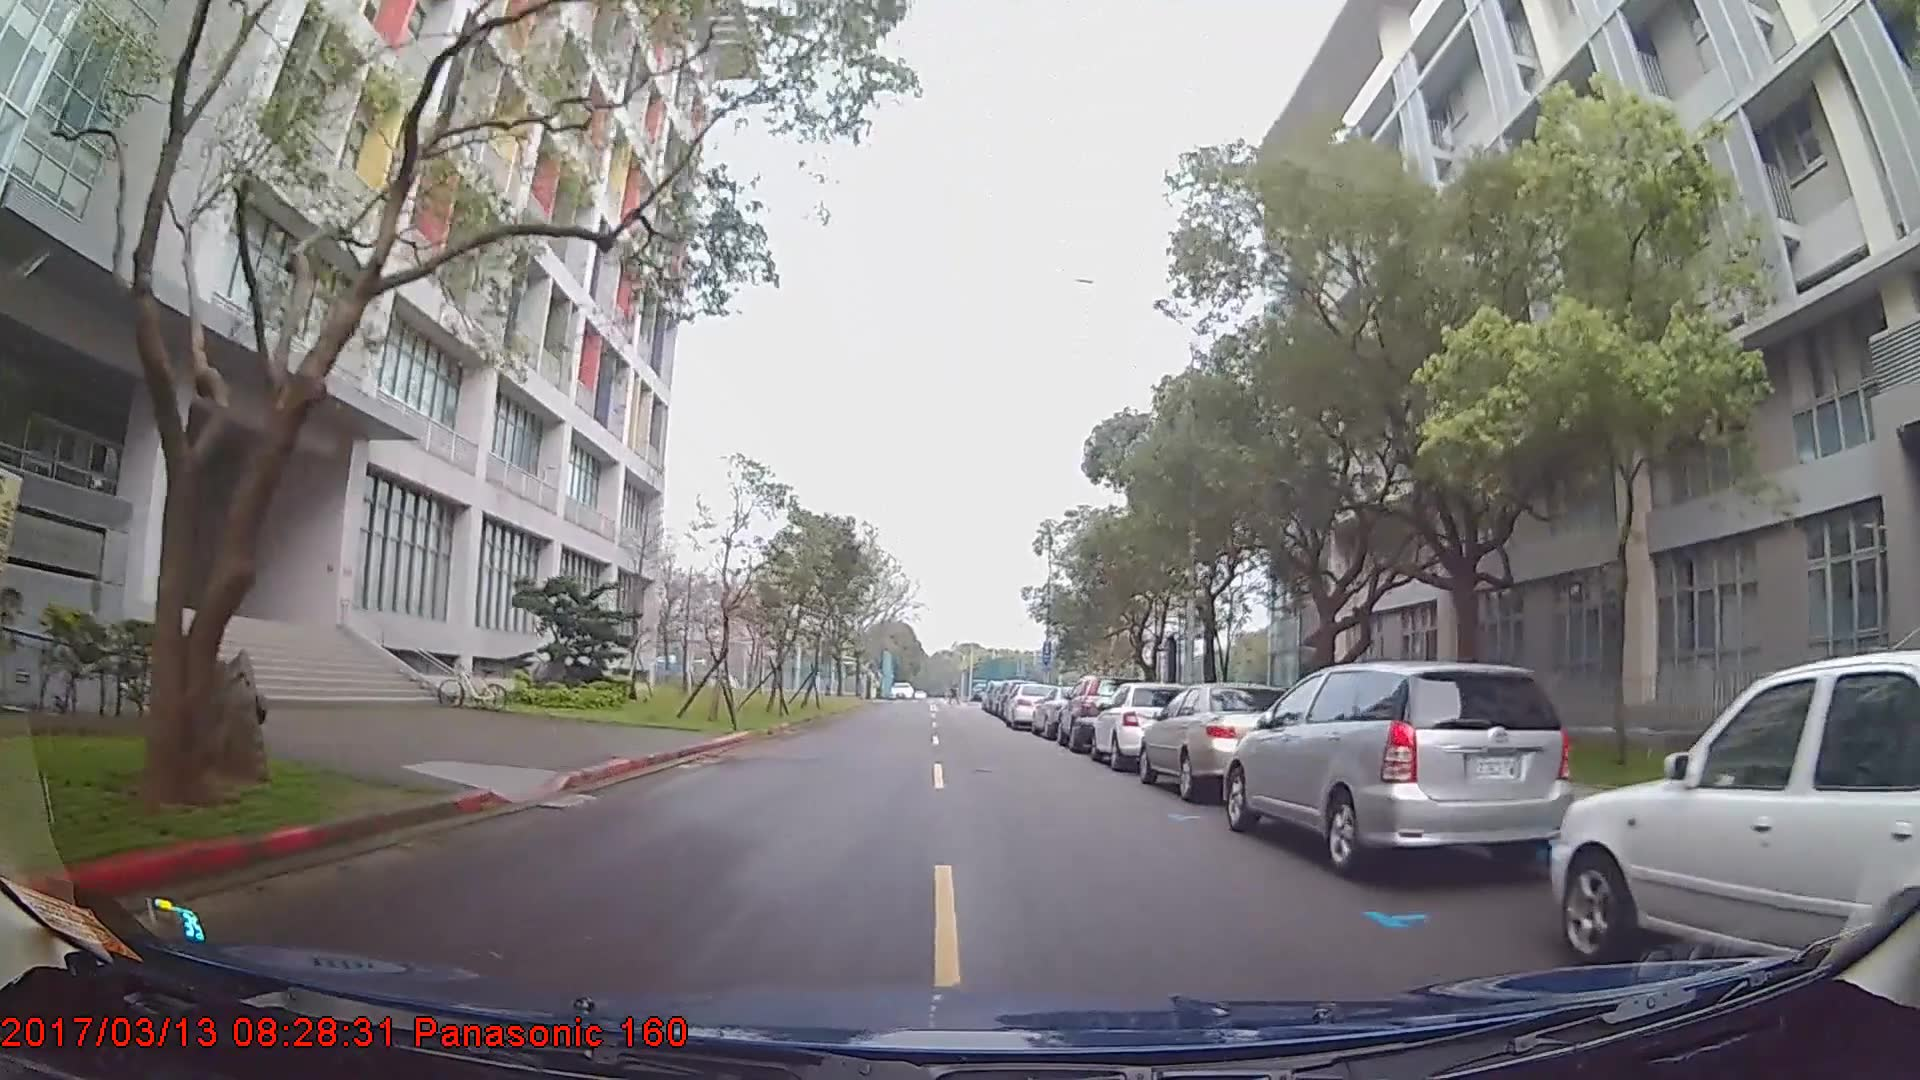vehicle: (1549, 647, 1920, 967), (1220, 659, 1575, 874), (1137, 680, 1304, 799), (1091, 682, 1189, 771), (1055, 675, 1139, 752), (1002, 679, 1062, 731)
